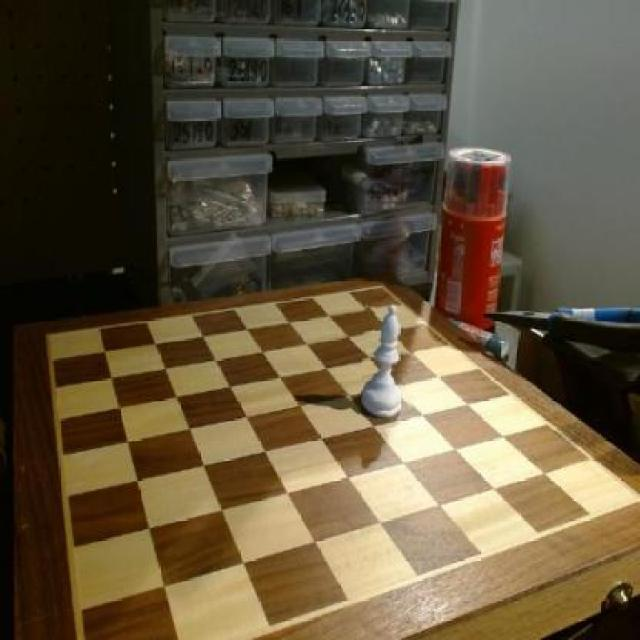black-rook: (362, 303, 416, 422)
